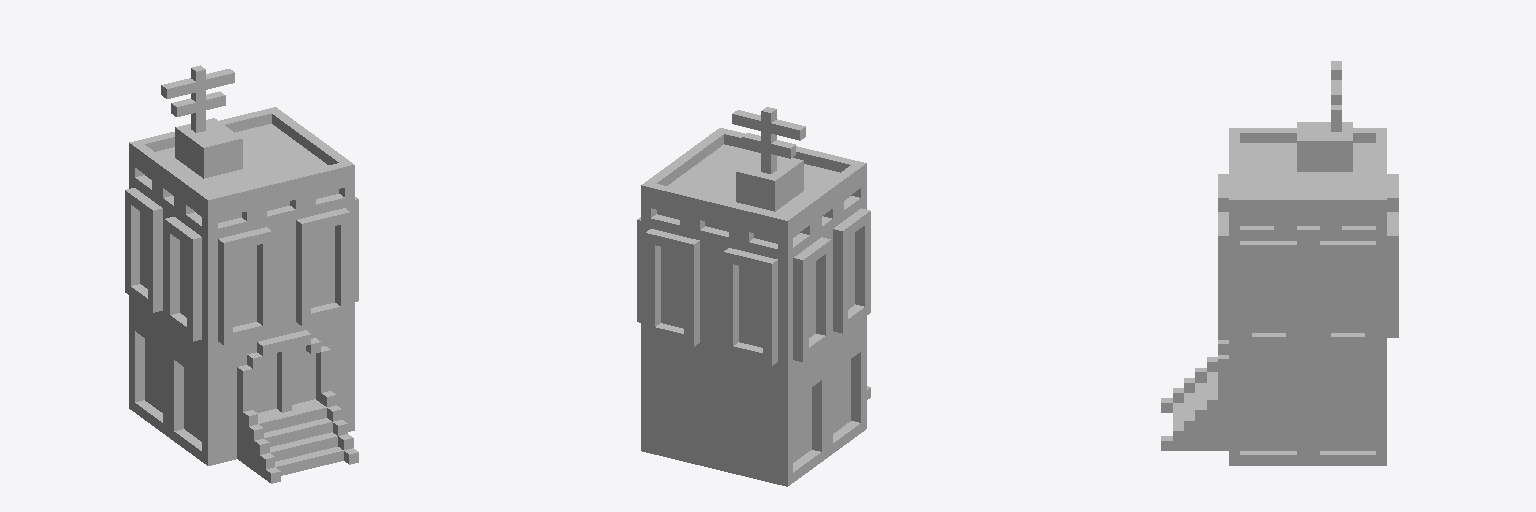
Rendered from building2.obj.
3 renders of one model, left to right at view 1: azimuth 30°, elevation 25°; view 2: azimuth 150°, elevation 25°; view 3: azimuth 270°, elevation 25°, orthographic.
Visible parts, largest first — view 1: object 1; view 2: object 1; view 3: object 1.
Part boxes in pixels (left/top/right/bottom): object 1: left=125, top=65, right=358, bottom=483; object 1: left=637, top=107, right=870, bottom=486; object 1: left=1161, top=61, right=1398, bottom=465.
Bounding box in the file's own units: 1.7 × 3.4 × 2.1.